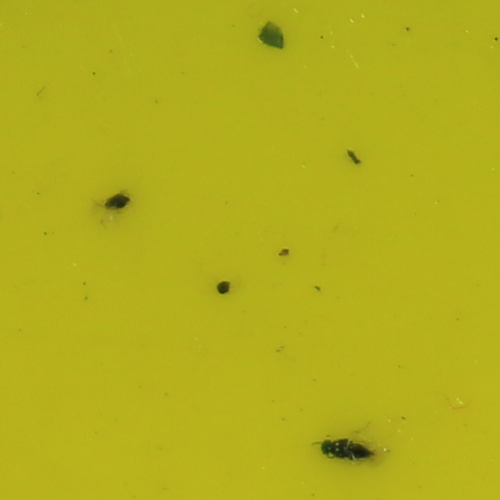Psyllaephagus: (319, 436, 378, 460)
